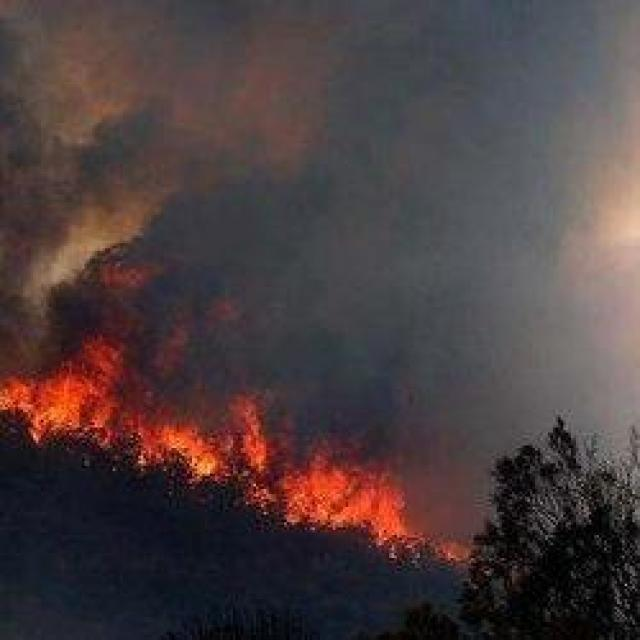fire: (0, 254, 483, 569)
